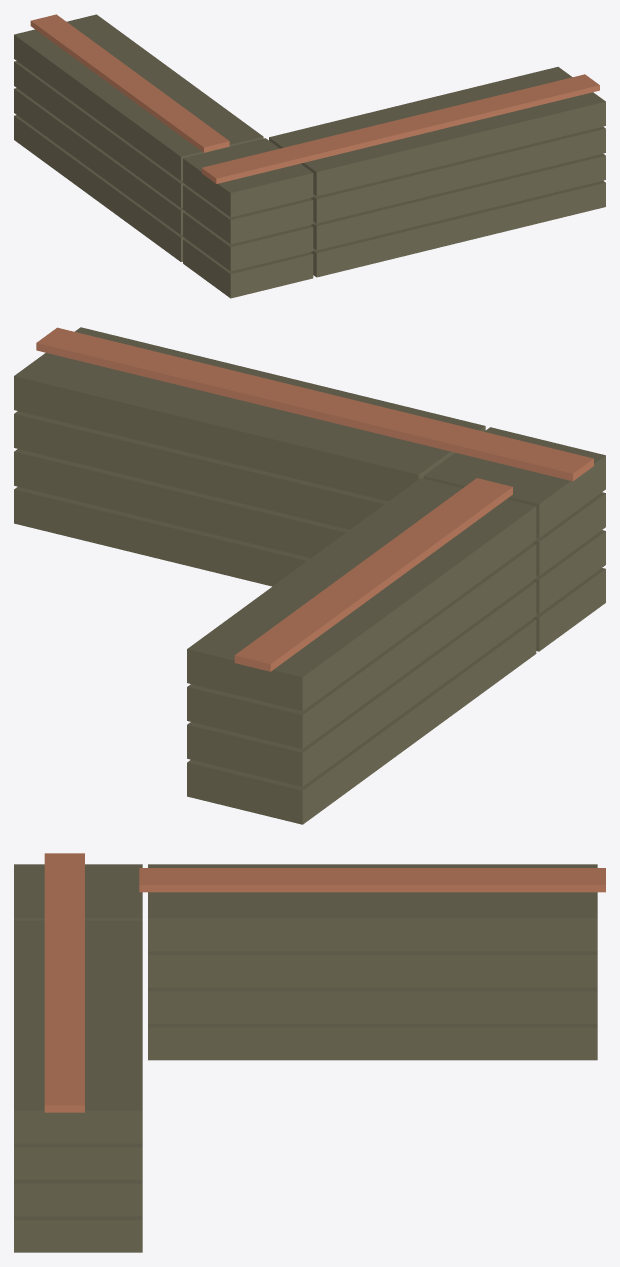
File: SM_PretilEsquina_v3_Tablon_e0_Sano_LOD1.fbx
3 views of the same model, one above another, from view 1: azimuth 30°, elevation 25°; view 2: azimuth 150°, elevation 25°; view 3: azimuth 270°, elevation 25° (orthographic). The views are drawn at different scales.
Parts seen in each view (by area): view 1: SM_pretil_azotea_v32_LOD1; view 2: SM_pretil_azotea_v32_LOD1; view 3: SM_pretil_azotea_v32_LOD1.
Boxes of the visible parts, x1,y1,x2,y2 form: SM_pretil_azotea_v32_LOD1: [14, 14, 605, 298]; SM_pretil_azotea_v32_LOD1: [14, 327, 605, 824]; SM_pretil_azotea_v32_LOD1: [14, 853, 605, 1252].
Size of the model in its own units: 4.46 by 1.24 by 4.42.
